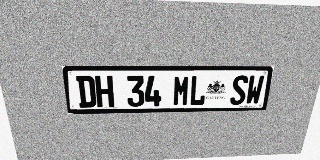3: (127, 75, 144, 107)
4: (145, 75, 162, 106)
D: (76, 76, 97, 108)
H: (95, 76, 114, 107)
L: (189, 75, 207, 106)
M: (173, 75, 190, 106)
S: (229, 75, 249, 105)
W: (245, 75, 265, 105)
